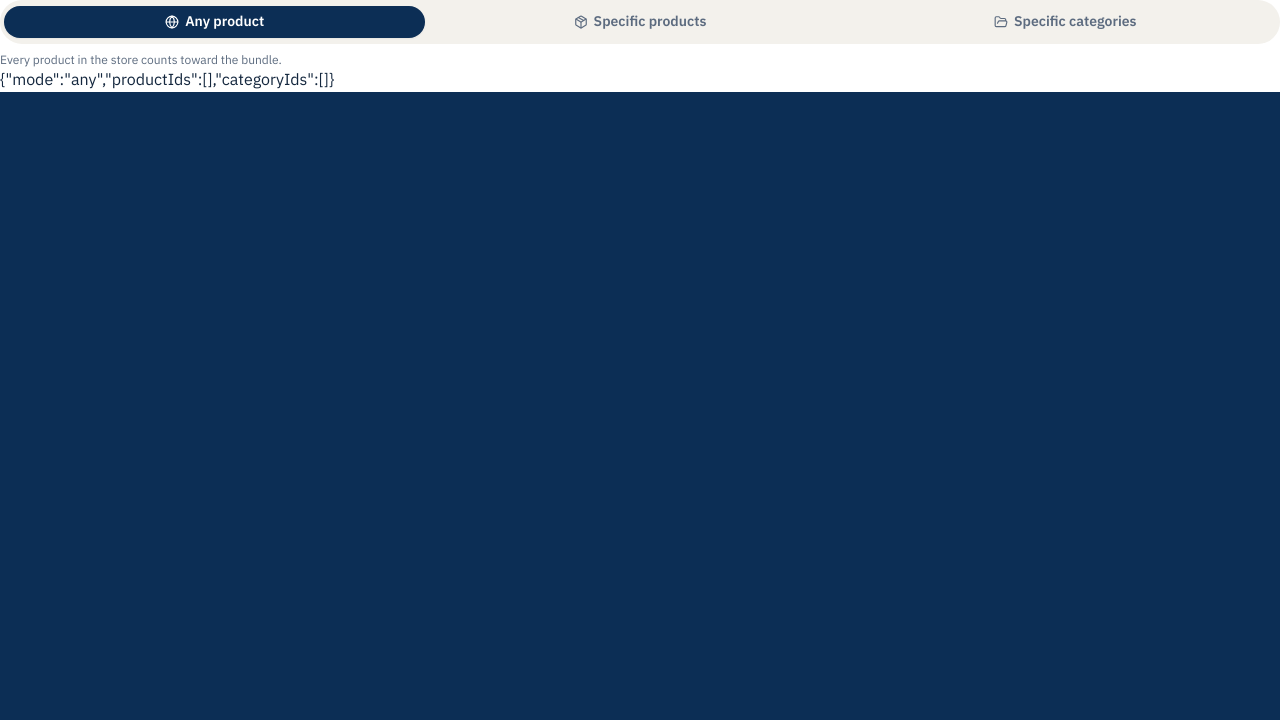
Test case: trigger label › reads the placeholder at 0, the NAME at 1, and "2 selected" at 2
Press the mouse on the tab "Specific categories" at (1065, 22), box [855, 6, 1276, 38]
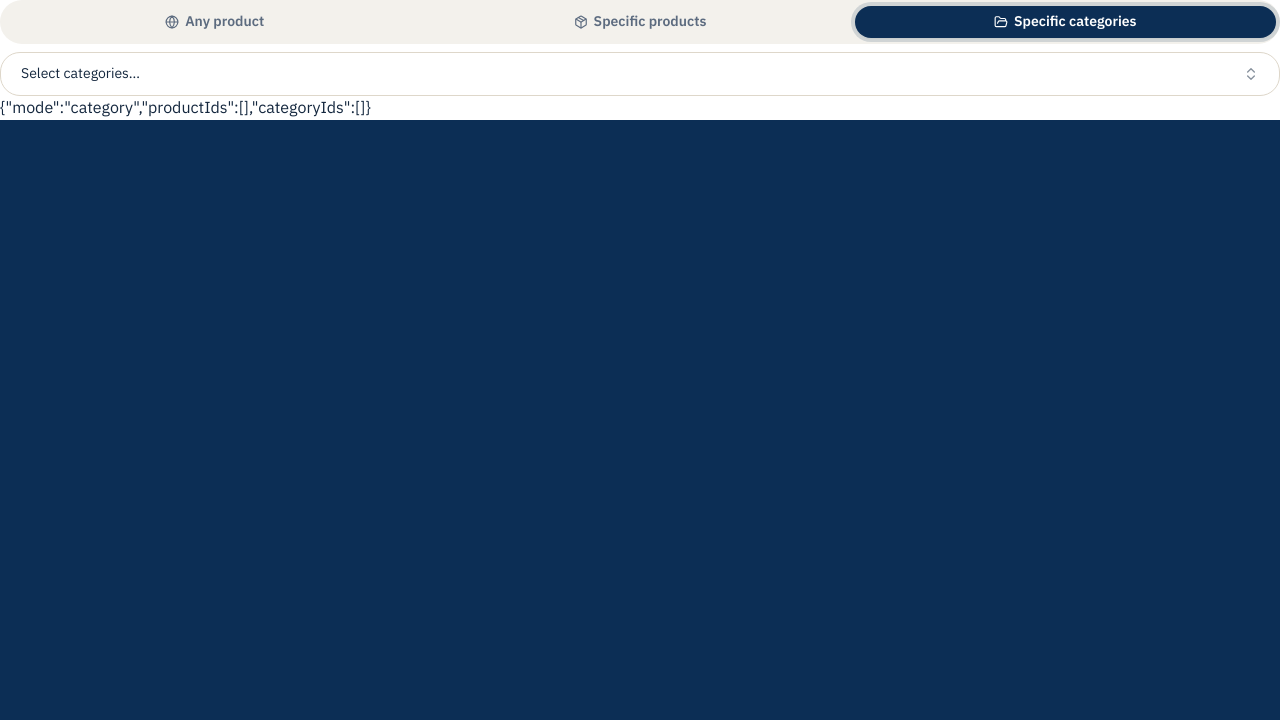
Expected: the dropdown reads "Select categories…"
Click the dropdown at (81, 74), box [0, 52, 1279, 96]
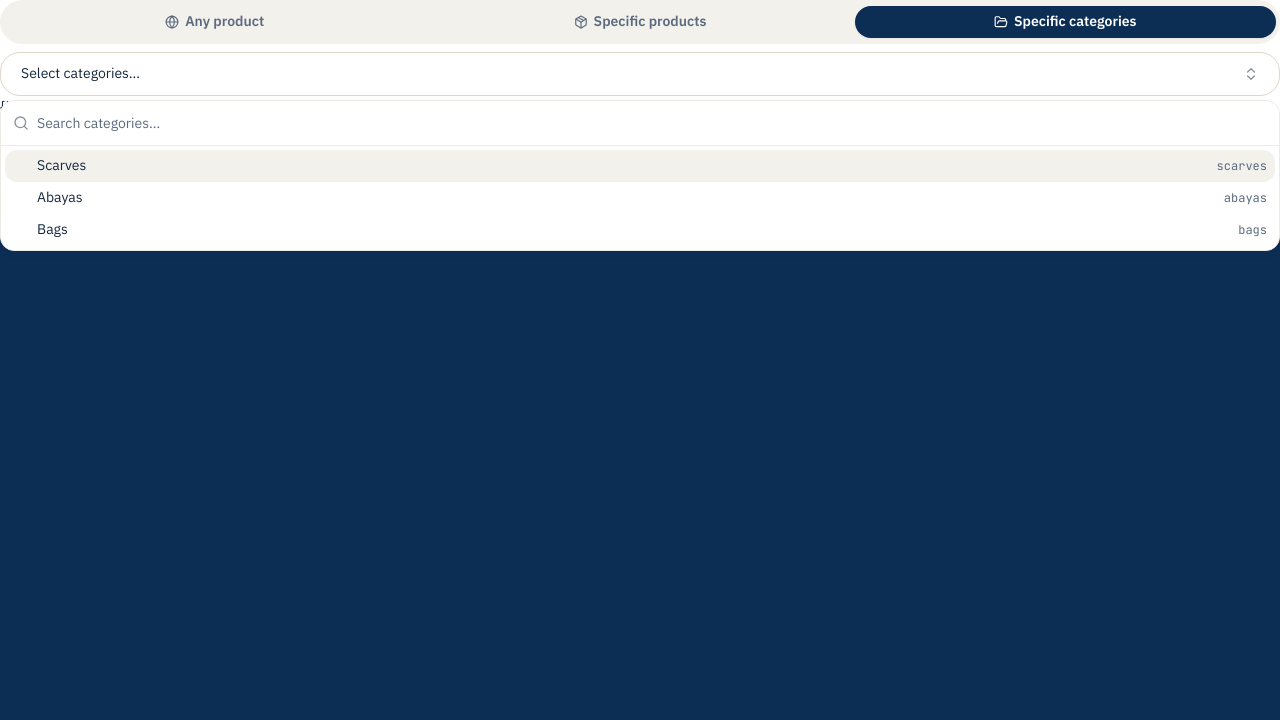
Click the option "Scarves scarves" at (62, 166), box [5, 150, 1275, 182]
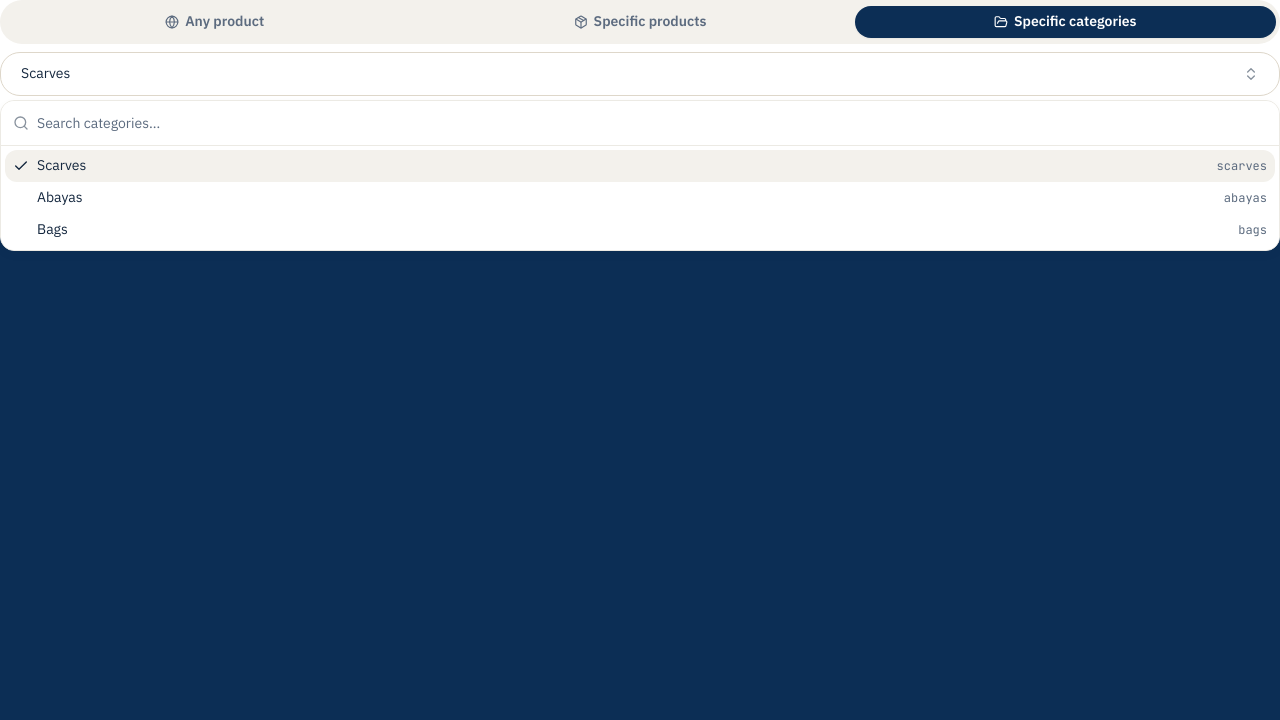
Expected: the dropdown does not show "selected"
Expected: the dropdown labelled "Scarves" is shown, [0, 52, 1279, 96]
Click the option "Abayas abayas" at (60, 198), box [5, 182, 1275, 214]
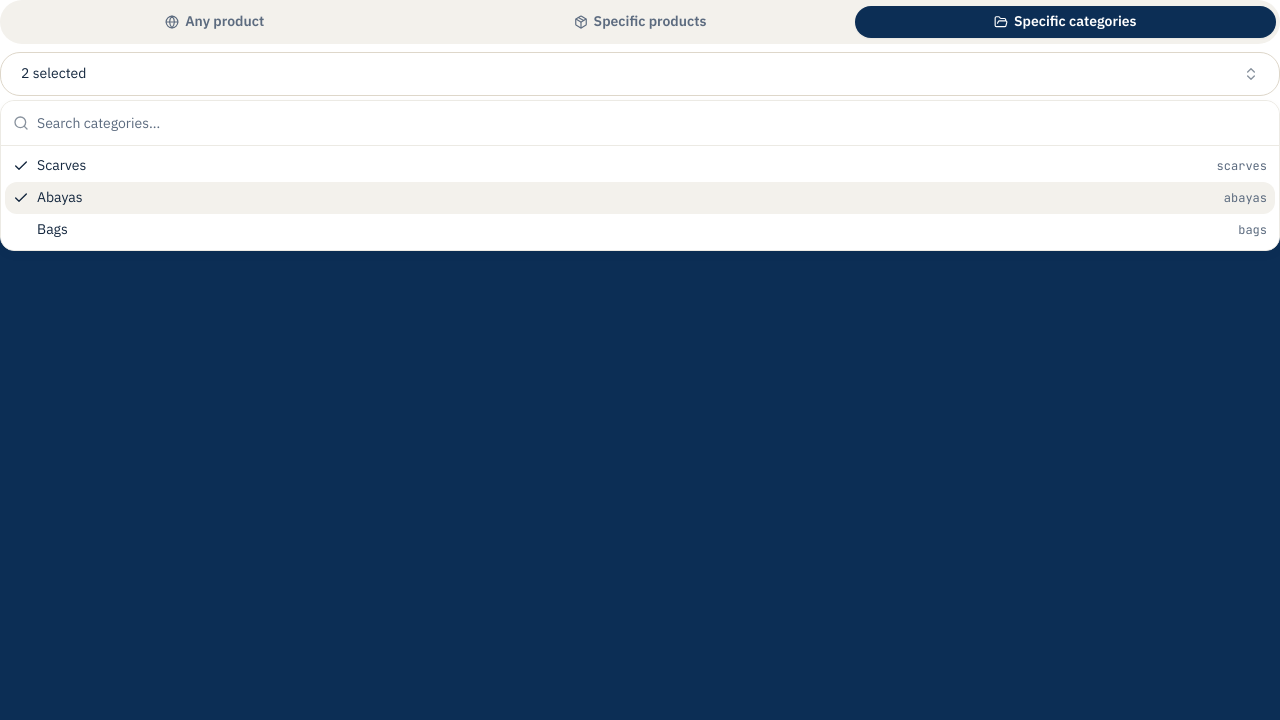
Expected: the dropdown does not show "Abayas"
Expected: the dropdown labelled "2 selected" is shown, [0, 52, 1279, 96]
Expected: the dropdown no longer shows "Scarves"
